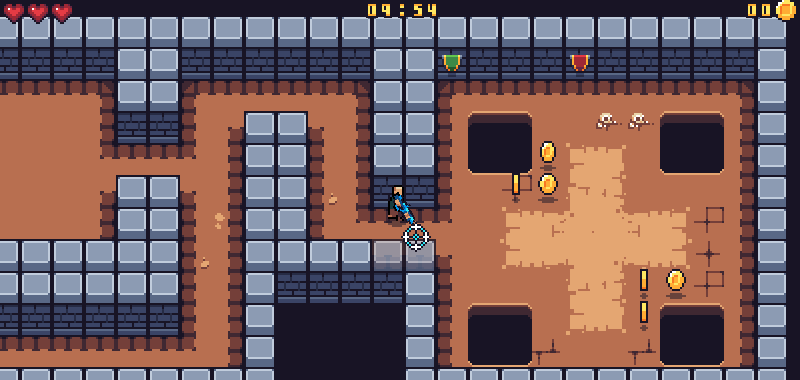gold: (664, 265, 685, 293), (539, 171, 558, 199), (538, 139, 556, 165), (510, 171, 522, 200), (638, 265, 649, 294), (638, 300, 650, 325)
